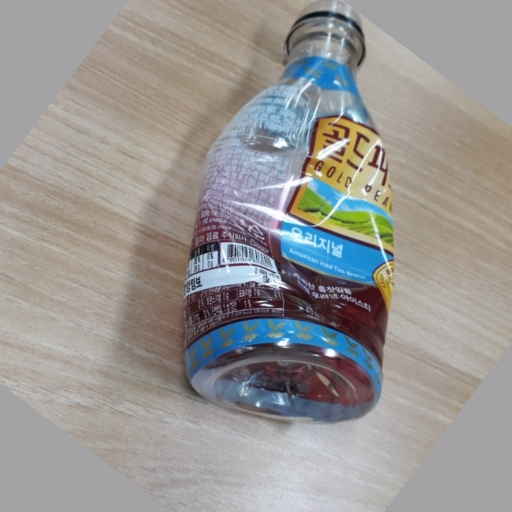Plastic_0: (186, 2, 398, 426)
